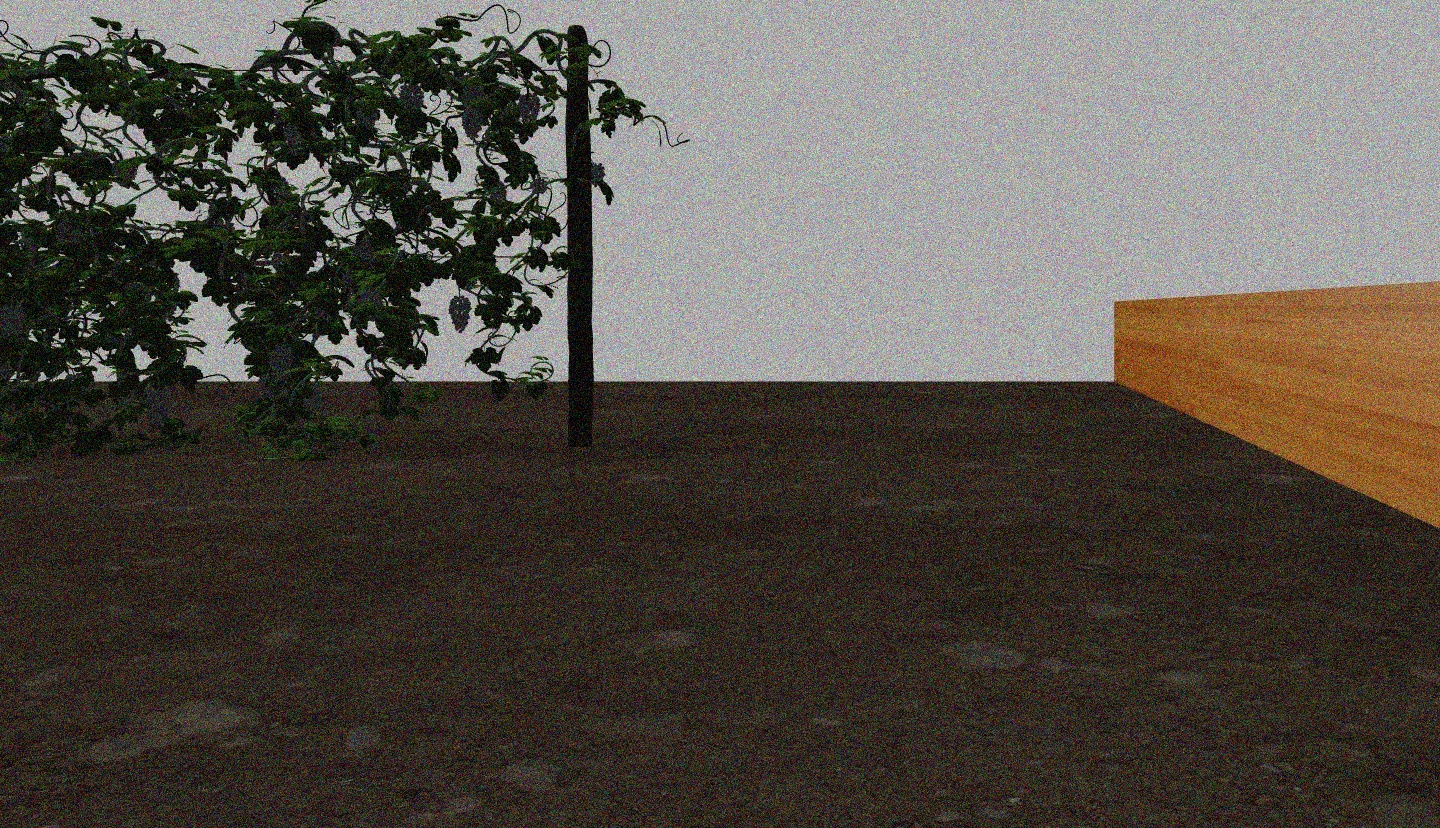grape: (142, 389, 173, 429), (268, 343, 295, 380), (449, 295, 472, 334), (3, 305, 27, 340), (463, 73, 487, 107), (303, 387, 327, 419), (518, 93, 541, 126), (398, 82, 426, 109), (462, 107, 484, 138), (591, 163, 606, 186)
